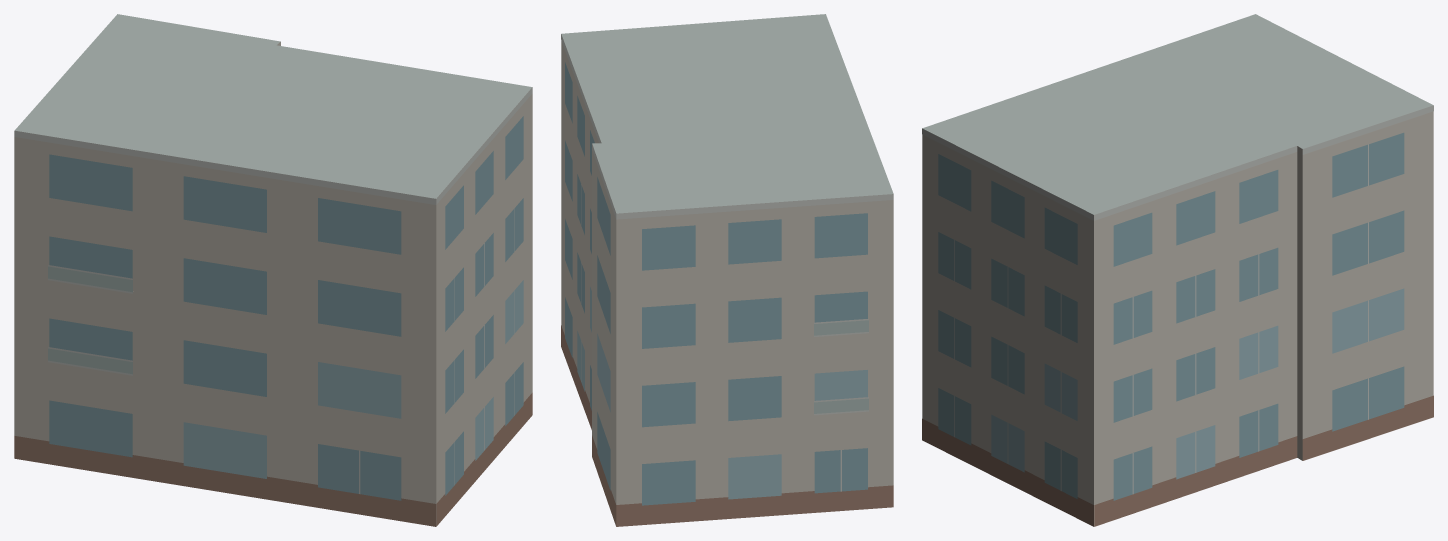
The model's file is survey-upis-32977066.glb.
The picture shows the model from 3 angles, left to right: view 1: azimuth 30°, elevation 25°; view 2: azimuth 150°, elevation 25°; view 3: azimuth 270°, elevation 25°; orthographic projection. The views are drawn at different scales.
Visible parts, largest first — view 1: survey-upis-32977066.tmp; view 2: survey-upis-32977066.tmp; view 3: survey-upis-32977066.tmp.
Part boxes in pixels (<box>): survey-upis-32977066.tmp: <box>14,14,532,526</box>; survey-upis-32977066.tmp: <box>561,14,893,526</box>; survey-upis-32977066.tmp: <box>922,14,1433,526</box>.
Size of the model in its own units: 17.69 by 12.8 by 19.04.
